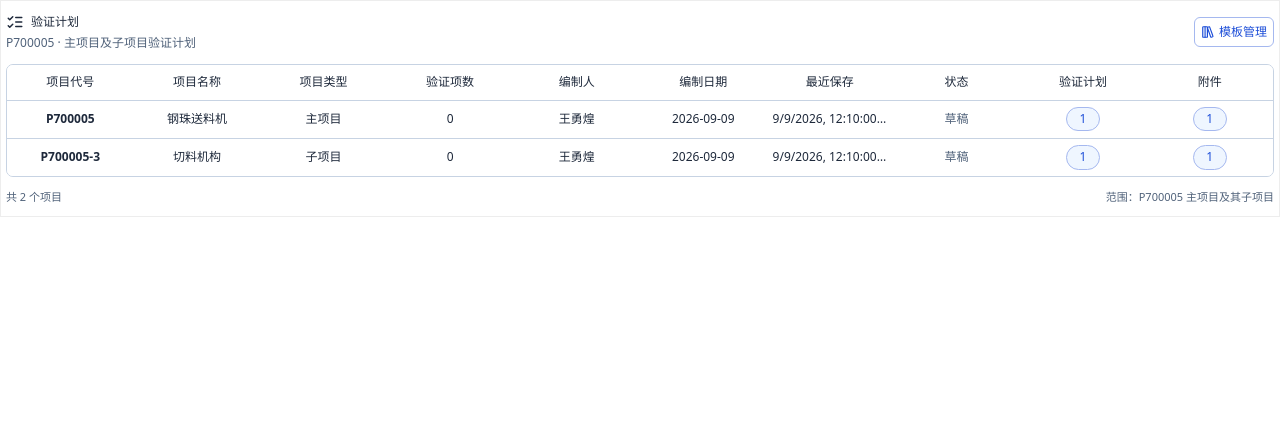
Test: ValidationPlanManager › 最近保存人显示姓名而不是账号
Click the row that starts with "P700005-3".
click(640, 157)  # box [7,138,1273,176]
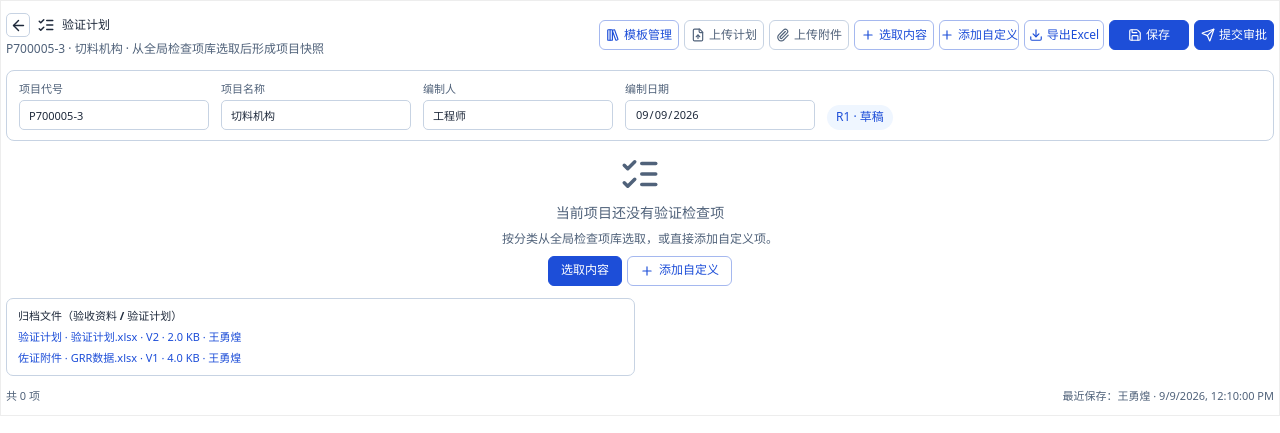
Expected: the footer shows "最近保存：王勇煌", [1062,388,1274,403]
